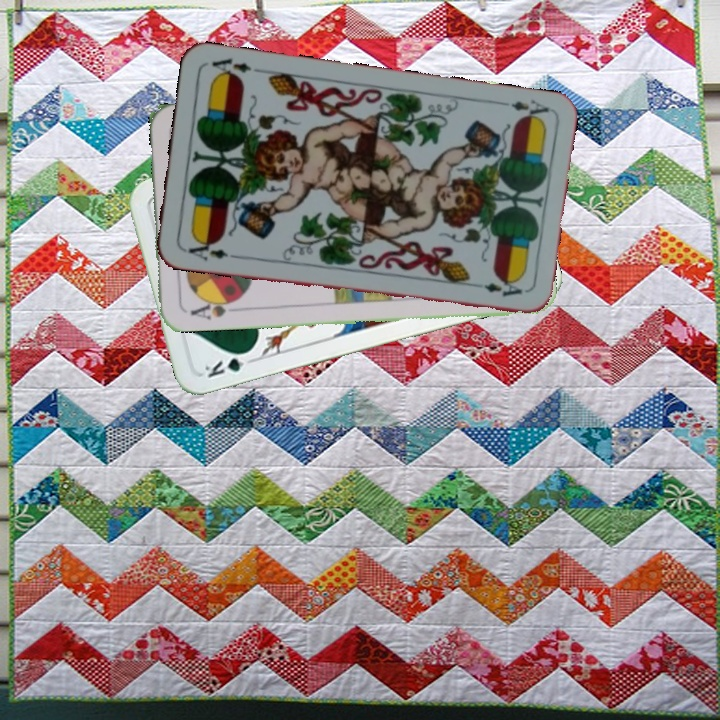EA: (180, 235, 231, 264), (507, 95, 552, 124)
GK: (200, 347, 258, 381)
SA: (187, 294, 241, 322)
